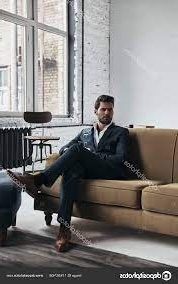not_fallen: (4, 89, 137, 258)
